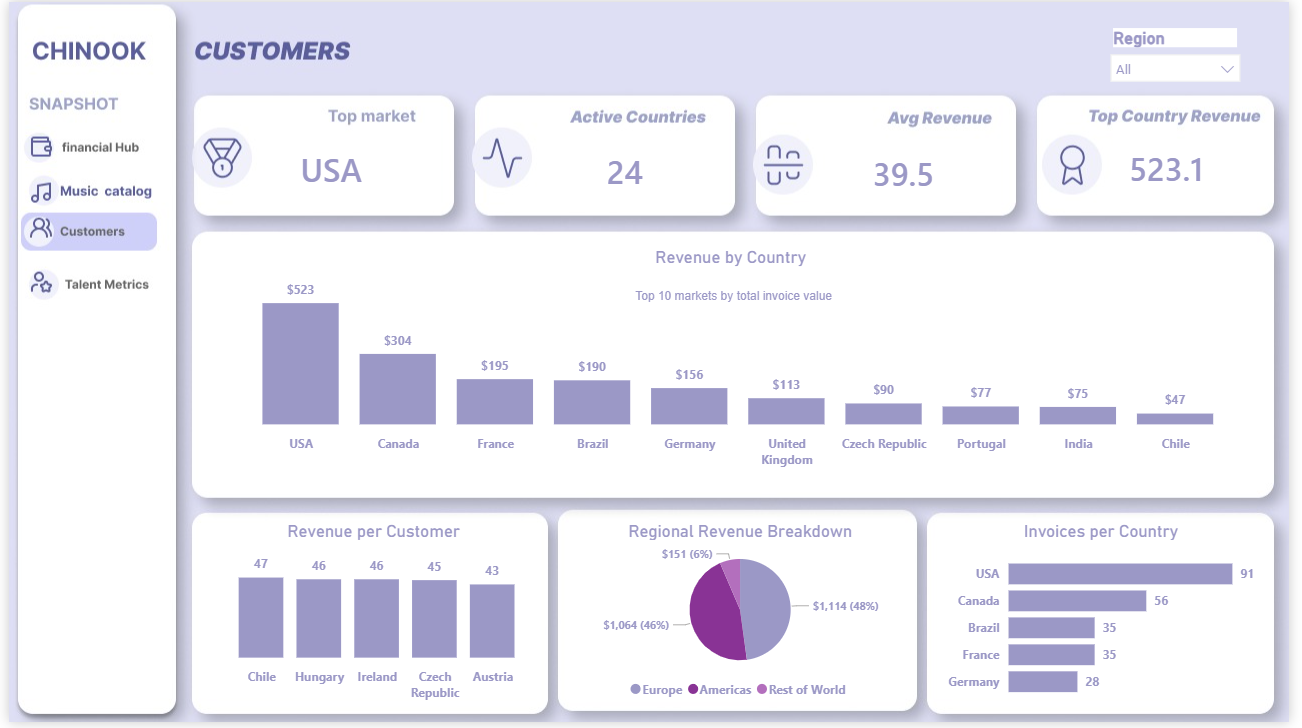

Layout of this report page (visuals, bound fields, positions):
{"tool":"powerbi","page":{"name":"Page 3","canvas":[1280,720],"ordinal":2},"visuals":[{"type":"cardVisual","fields":{"Data":["DAX.Top Market"]},"box":[261.9,129.8,163.1,71.4],"z":0},{"type":"cardVisual","fields":{"Data":["DAX.Countries Active"]},"box":[569.1,133.3,110.7,67.9],"z":1000},{"type":"cardVisual","fields":{"Data":["DAX.daxAvg Rev per Customer"]},"box":[834.5,133.3,142.9,72.6],"z":2000},{"type":"cardVisual","fields":{"Data":["DAX.Top Country Revenue"]},"box":[1091.7,125,169,81],"z":3000},{"type":"columnChart","title":"Revenue by Country","fields":{"Y":["DAX.Total Revenue"],"Category":["invoice.BillingCountry"]},"box":[194,245.2,1056,228.6],"z":4000},{"type":"textbox","box":[621.4,260.7,221.4,63.1],"z":5000},{"type":"columnChart","title":"Revenue per Customer ","fields":{"Y":["DAX.Rev per Customer"],"Category":["invoice.BillingCountry"]},"box":[194,519.1,341.7,188.1],"z":6000},{"type":"barChart","title":"Invoices per Country","fields":{"Category":["invoice.BillingCountry"],"Y":["DAX.Invoices per Country"]},"box":[933.3,519.1,316.7,188.1],"z":7000},{"type":"pieChart","title":"Regional Revenue Breakdown","fields":{"Category":["invoice.Region"],"Y":["DAX.Total Revenue"]},"box":[569.1,519.1,325,186.9],"z":8000},{"type":"slicer","fields":{"Values":["invoice.Region"]},"box":[1091.7,21.4,150,58.3],"z":9000}]}

Visuals, with their boxes on the page's 1280x720 design canvas (x1, y1, x2, y2). These are canvas units, not pixel positions in the 1302x728 screenshot, which may show the page scaled, cropped or inside an application window:
cardVisual - DAX.Top Market: [left=262, top=130, right=425, bottom=201]
cardVisual - DAX.Countries Active: [left=569, top=133, right=680, bottom=201]
cardVisual - DAX.daxAvg Rev per Customer: [left=834, top=133, right=977, bottom=206]
cardVisual - DAX.Top Country Revenue: [left=1092, top=125, right=1261, bottom=206]
"Revenue by Country" columnChart: [left=194, top=245, right=1250, bottom=474]
textbox: [left=621, top=261, right=843, bottom=324]
"Revenue per Customer " columnChart: [left=194, top=519, right=536, bottom=707]
"Invoices per Country" barChart: [left=933, top=519, right=1250, bottom=707]
"Regional Revenue Breakdown" pieChart: [left=569, top=519, right=894, bottom=706]
slicer - invoice.Region: [left=1092, top=21, right=1242, bottom=80]
